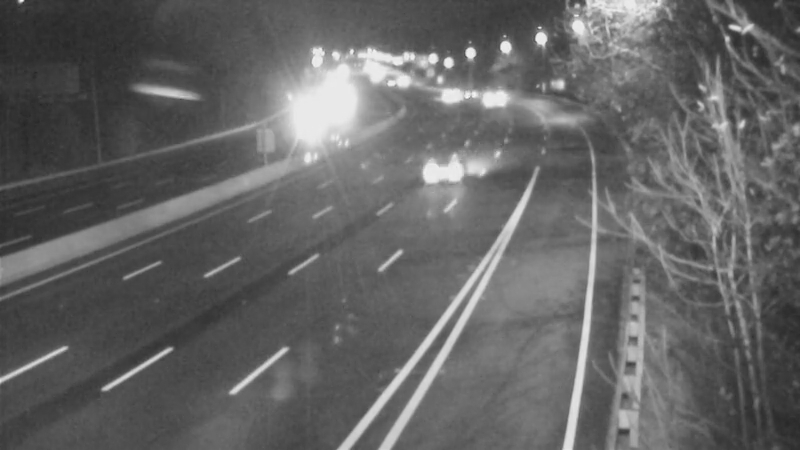vehicle: (402, 130, 482, 210), (373, 57, 423, 107), (421, 69, 471, 119), (443, 65, 493, 115), (469, 78, 519, 128)
